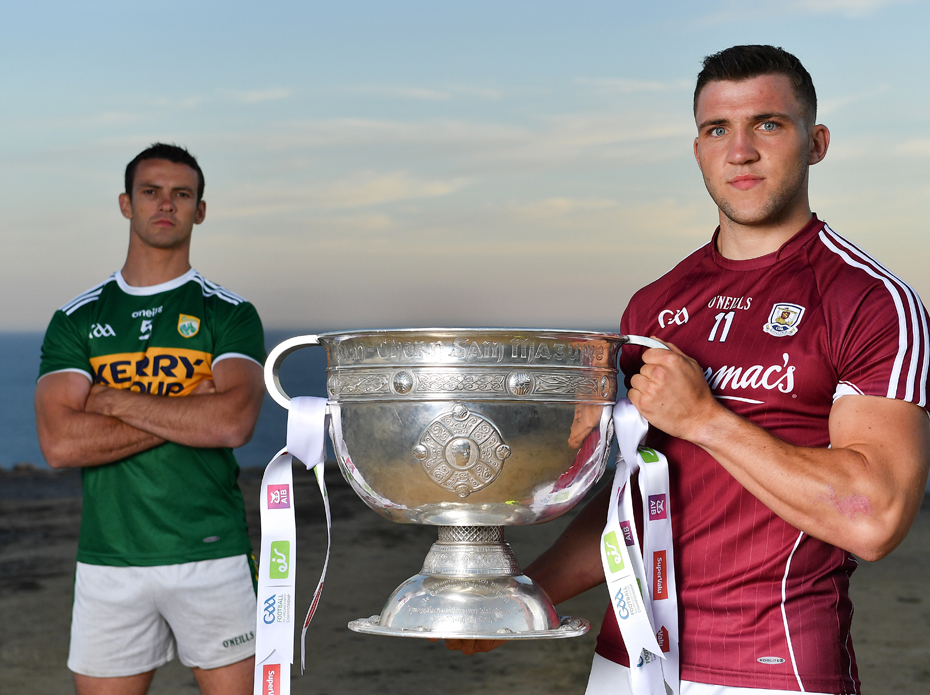player: (625, 26, 921, 677), (51, 132, 279, 682)
